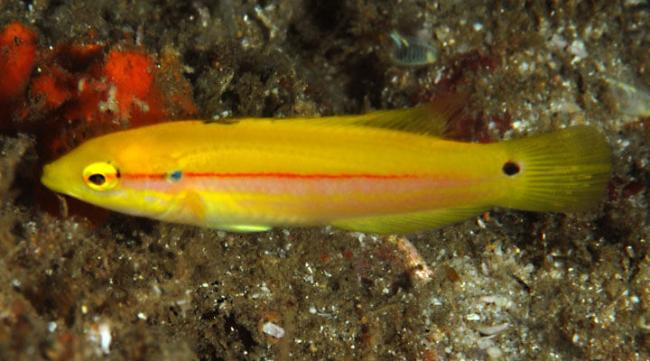fish: (42, 98, 610, 234)
